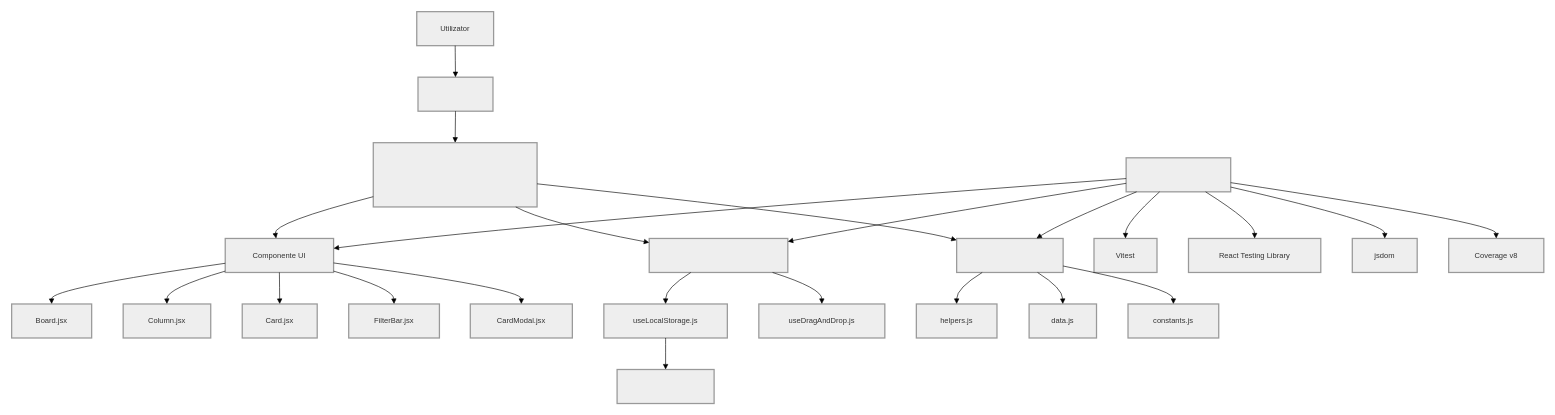
The diagram is 1555 pixels wide and 415 high, and some of its shapes have lost their labels. Here are the shapes that lost their labels. From the top down, the centre of each, then its label:
pixel 455 94: Browser
pixel 454 174: Aplicatie React / Vite Kanban Board frontend-only
pixel 1178 174: Testare unitara
pixel 718 255: Hook-uri personalizate
pixel 1009 255: Module utilitare
pixel 665 386: LocalStorage
